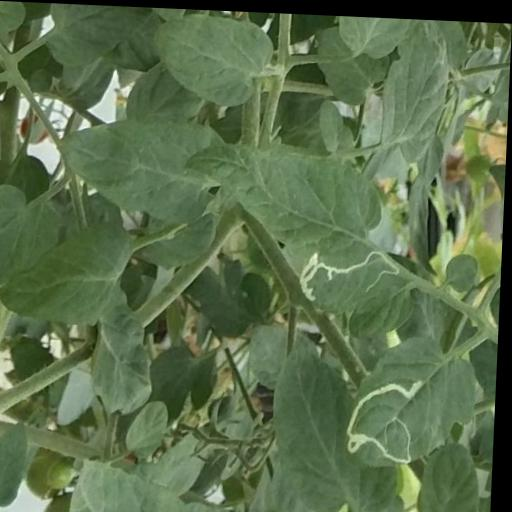Healthy: (273, 327, 410, 512), (183, 137, 387, 245), (57, 112, 226, 223), (0, 218, 138, 324), (152, 10, 275, 106), (382, 14, 451, 160), (92, 283, 160, 413), (420, 435, 485, 512), (0, 418, 33, 507), (128, 396, 173, 459)
Leaf_Miner: (339, 324, 490, 471), (288, 226, 423, 316)
